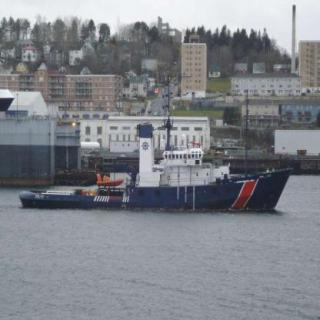Tug Boat: (17, 139, 300, 212)
